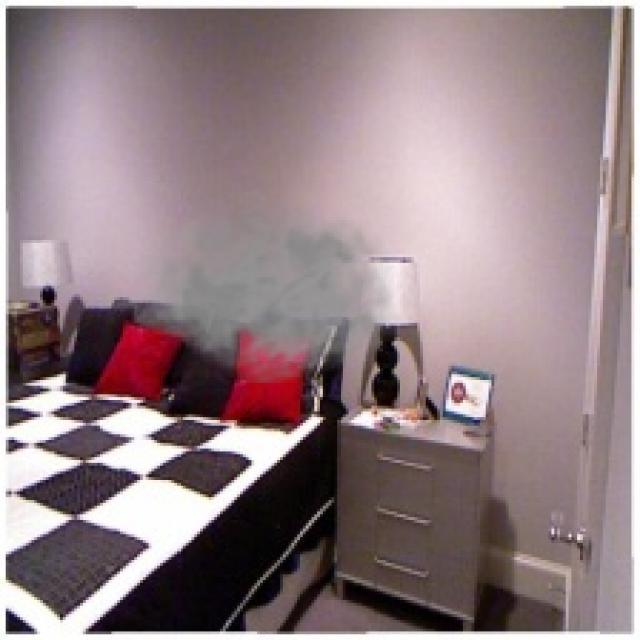Smoke: (123, 186, 406, 386)
